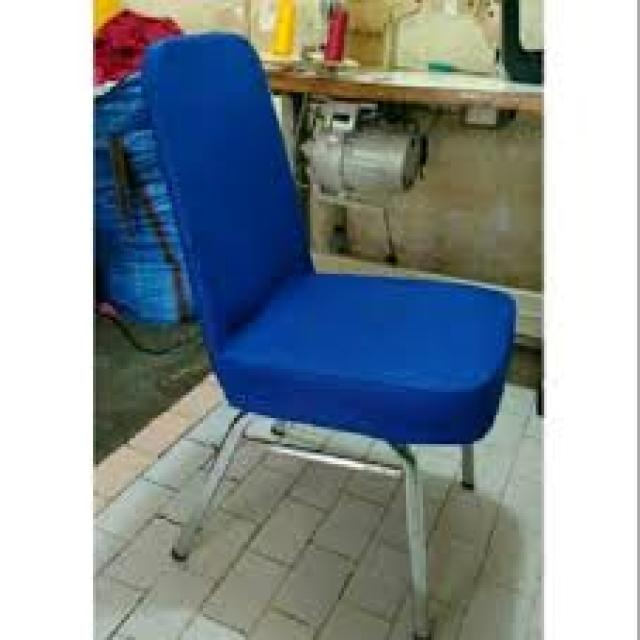chair: (146, 31, 514, 640)
